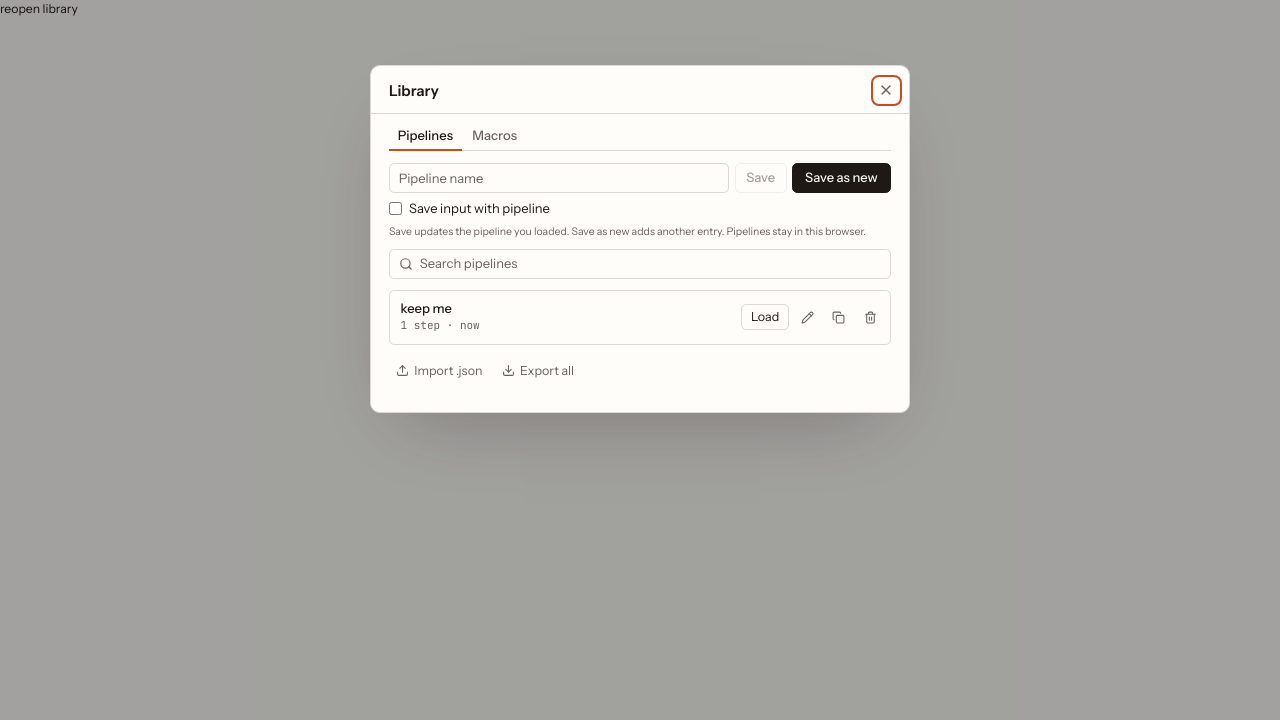
Scenario: LibraryDialog › Escape in the inline rename field cancels the rename and keeps the dialog open
Click the button named "rename keep me".
click(808, 317)  # box [794,304,820,330]
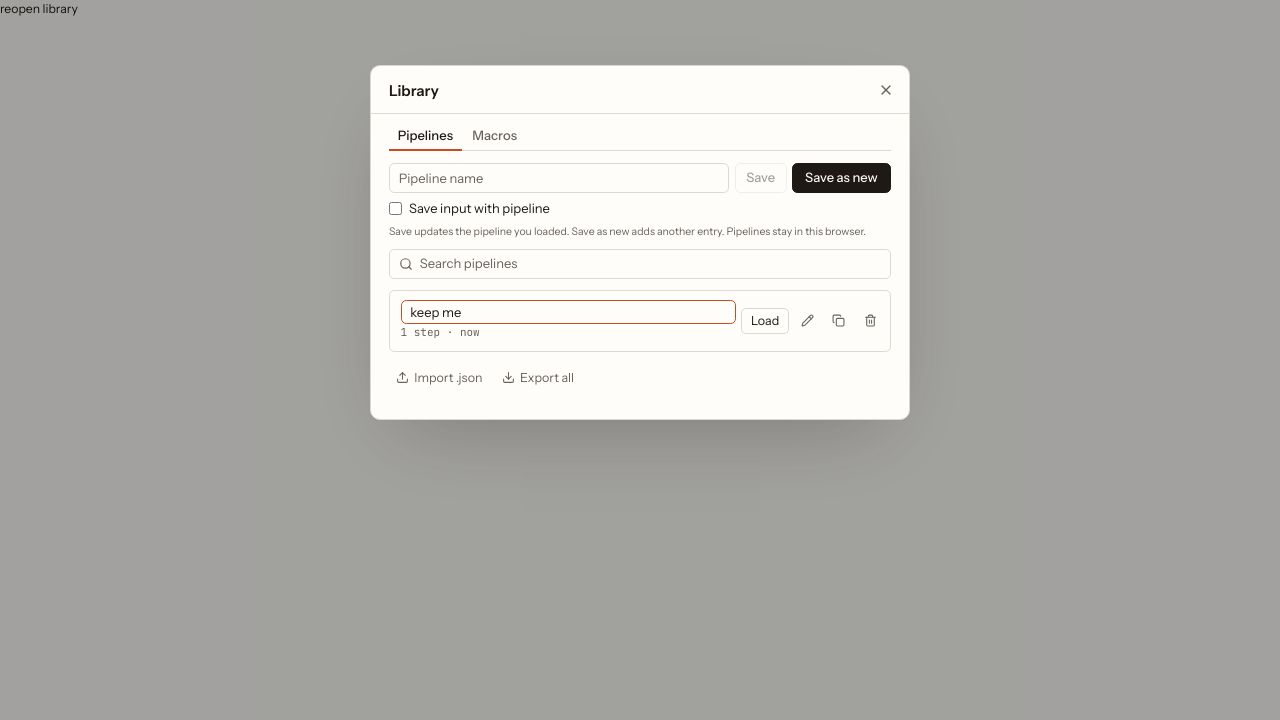
Replace the text in the field named "rename keep me" with "changed" at coordinates (568, 312), box [400,300,736,324]
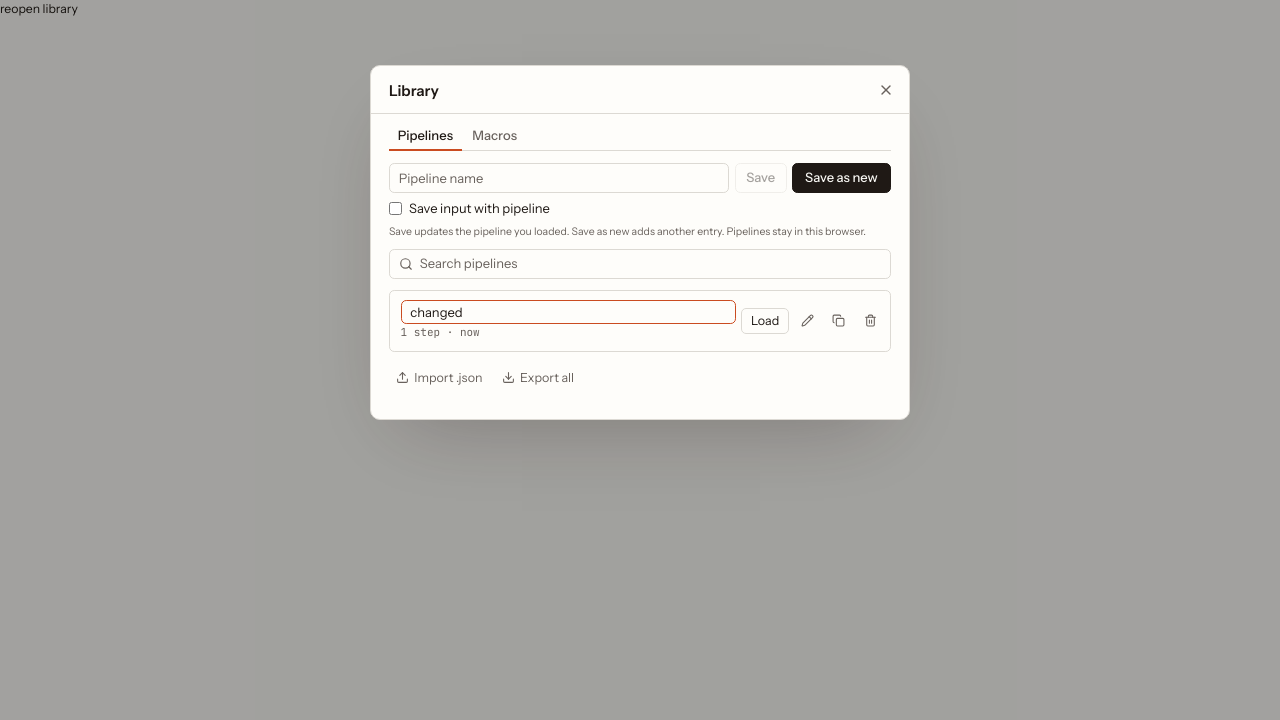
Press Escape
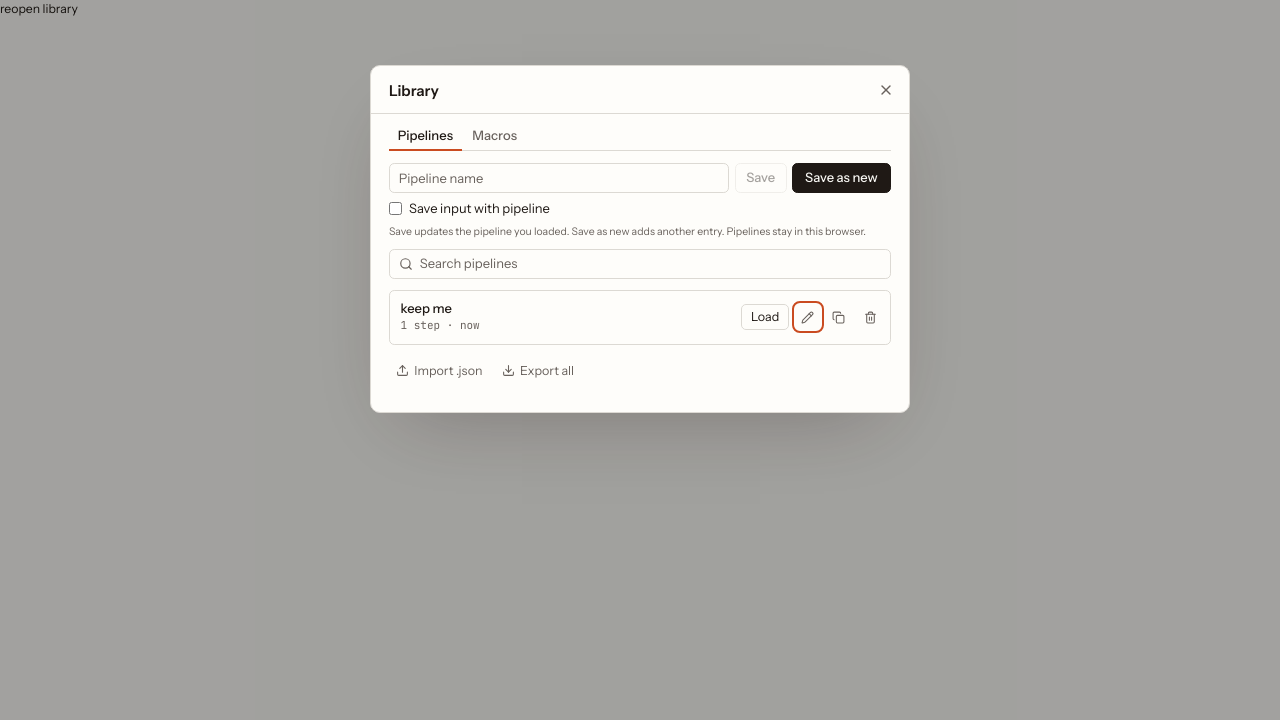
Expected: the dialog "Library" is shown, [370,65,910,413]
Result: the text "keep me" is shown at [400,300,452,316]
